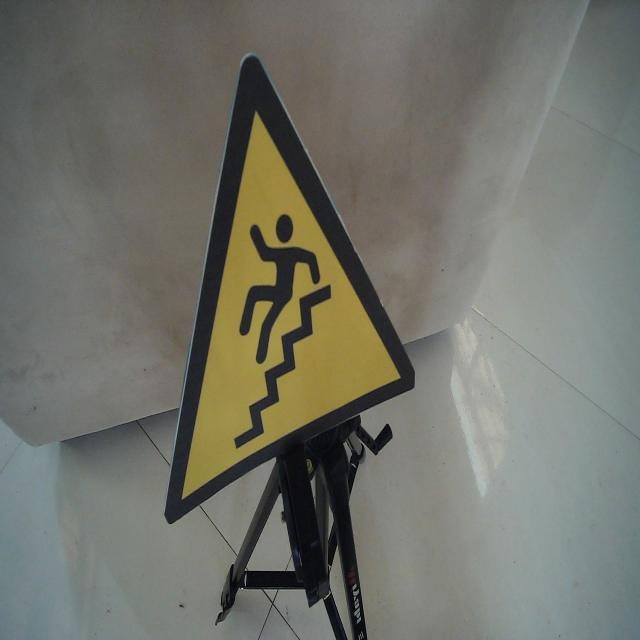stairs: (162, 48, 418, 528)
